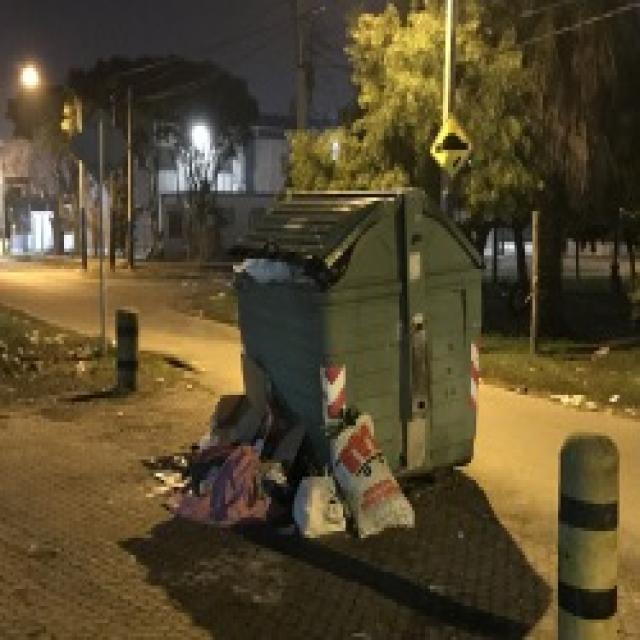garbage: (154, 361, 422, 546)
